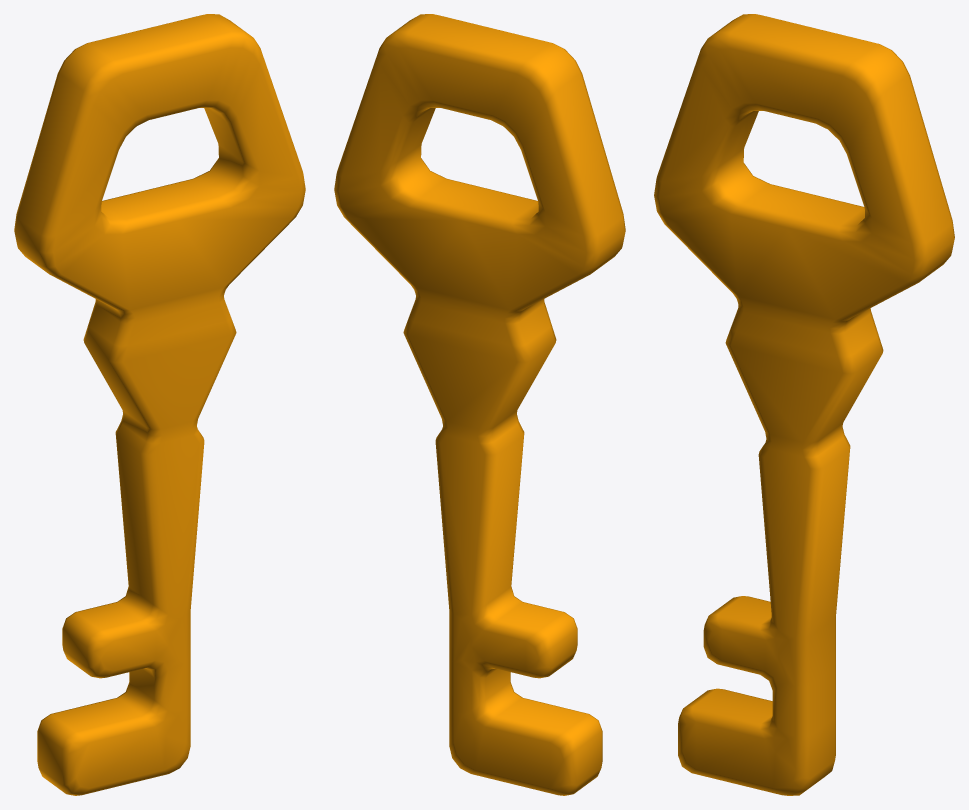
File: Key.fbx
3 renders of one model, left to right at view 1: azimuth 30°, elevation 25°; view 2: azimuth 150°, elevation 25°; view 3: azimuth 330°, elevation 25°, orthographic. The views are drawn at different scales.
Visible parts, largest first — view 1: Key; view 2: Key; view 3: Key.
Part boxes in pixels (left/top/right/bottom): Key: left=14, top=14, right=305, bottom=795; Key: left=334, top=14, right=625, bottom=795; Key: left=654, top=14, right=954, bottom=795.
Bounding box in the file's own units: 9.1 × 23.75 × 2.02.
